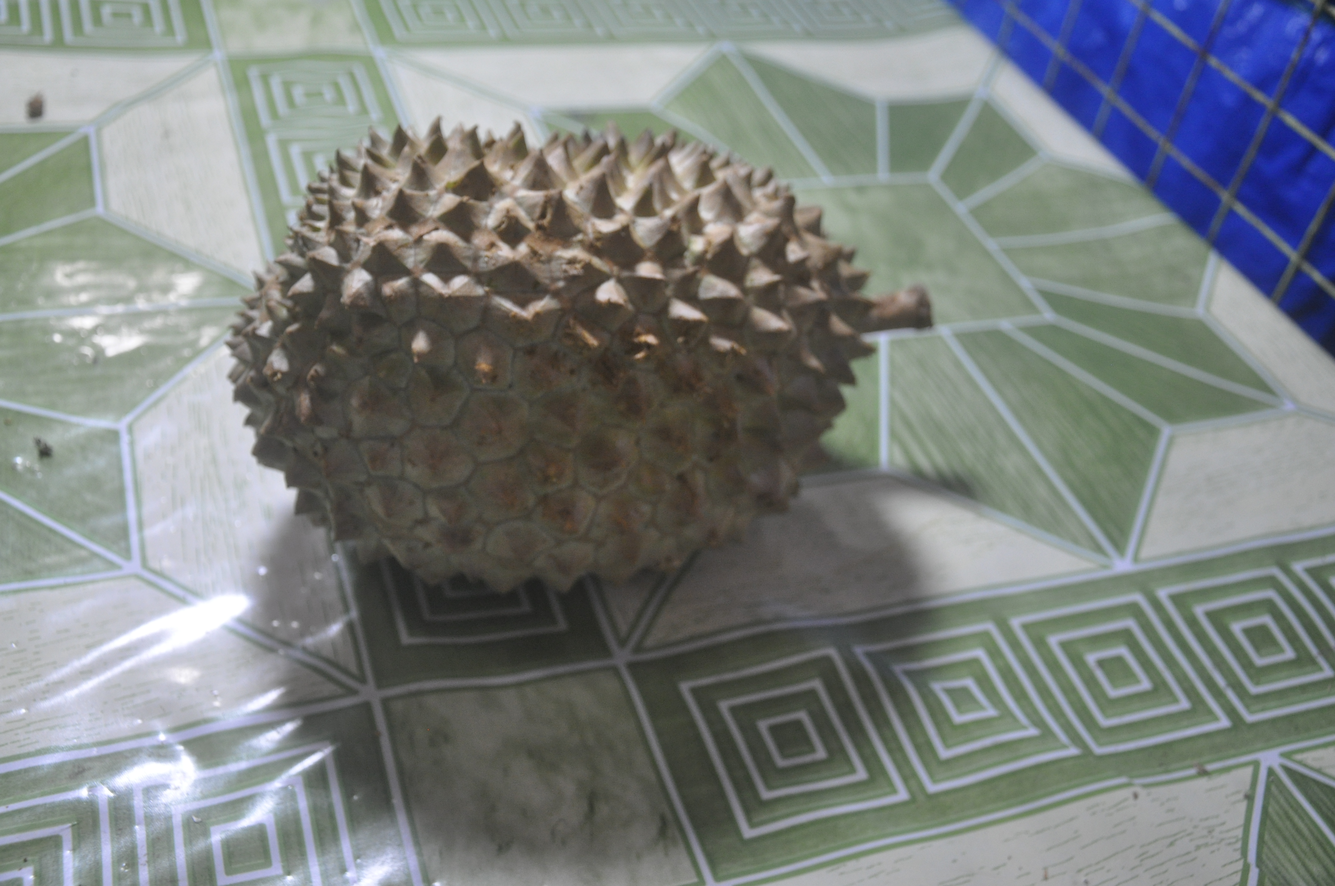mature: (229, 120, 931, 590)
